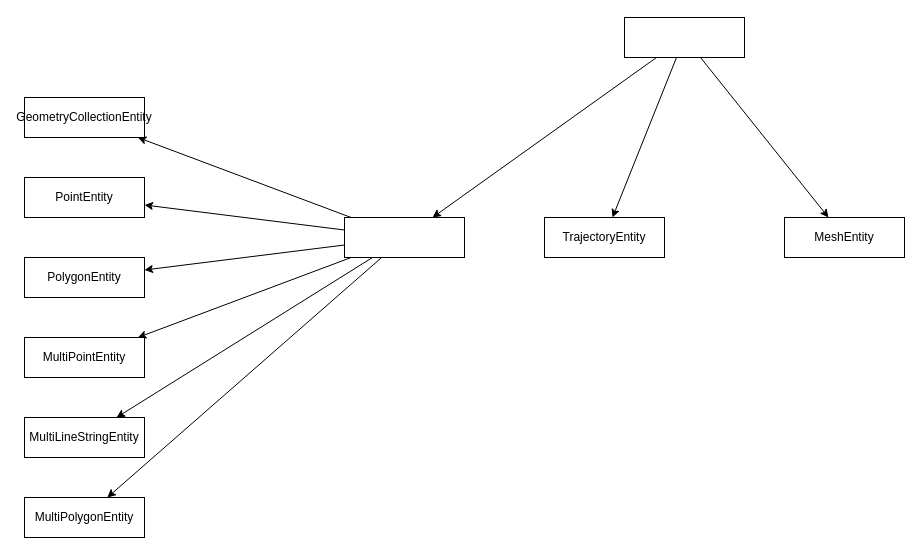
The diagram is 922 pixels wide and 555 high, and some of its shapes have lost their labels. Each missing label, with the centre of its shape:
Entity: the point at 684,37
GeometryEntity: the point at 404,237
